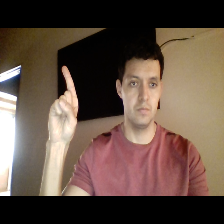2T: (41, 62, 86, 149)
